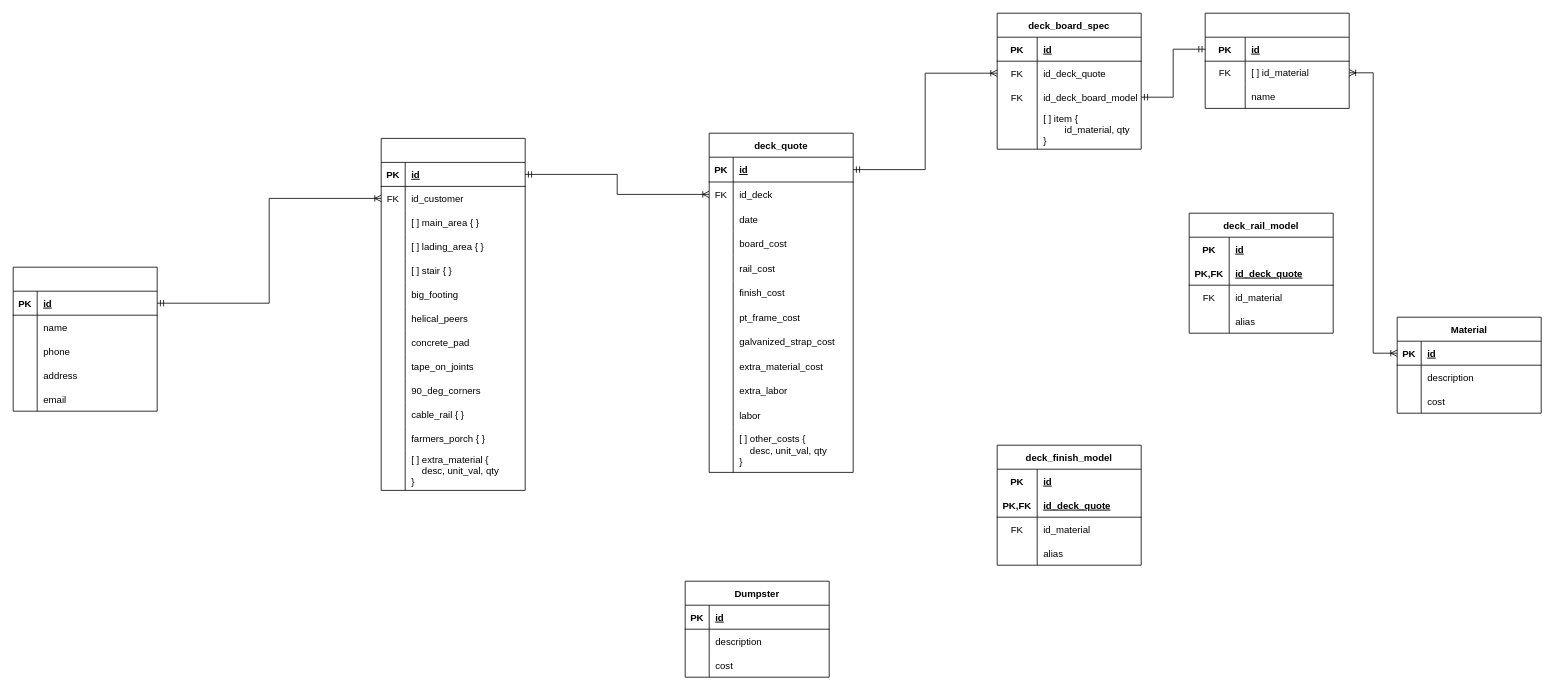
Some shapes in this 1554 by 690 pixel diagram are drawn without their labels. The shapes that lost their labels are listed below. From the top down, each one's box as (x1, y1, x2, y2) in pixels, then its label:
(1204, 12, 1349, 108): deck_board_model
(380, 138, 525, 490): deck
(12, 266, 157, 411): customer
